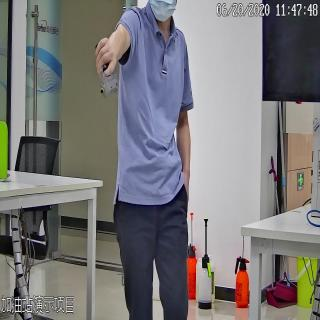gun: (95, 40, 121, 98)
